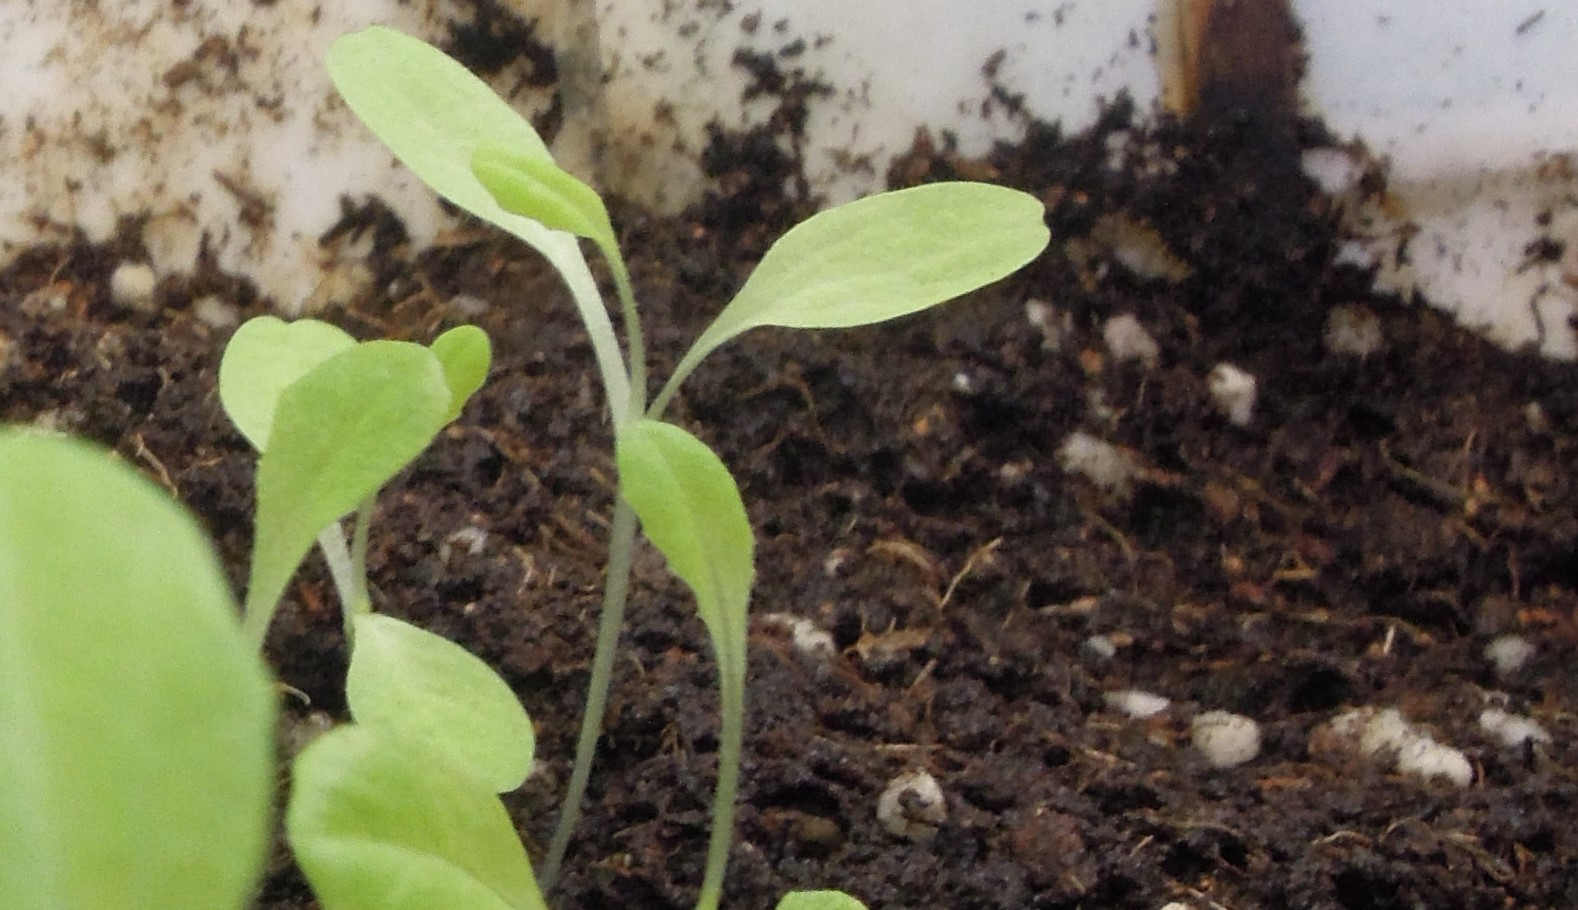week2: (619, 135, 1059, 434), (335, 21, 622, 425), (477, 134, 646, 405)
